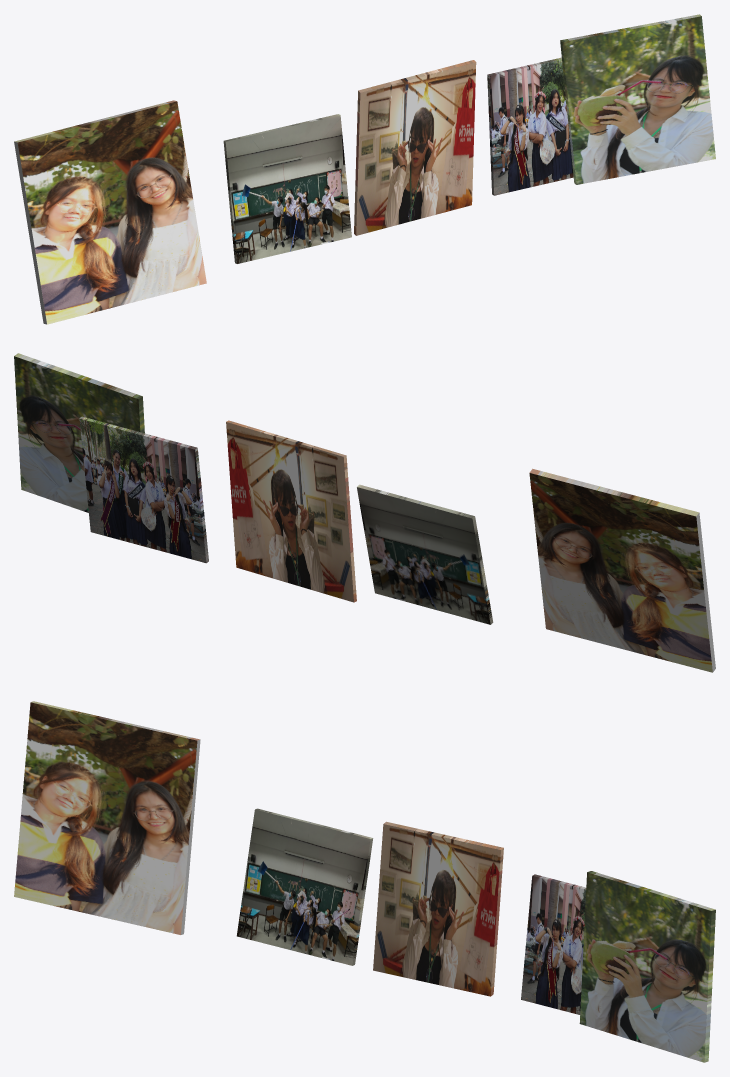
File: art2.glb
3 renders of one model, top to bottom at view 1: azimuth 30°, elevation 25°; view 2: azimuth 150°, elevation 25°; view 3: azimuth 330°, elevation 25°, orthographic. The views are drawn at different scales.
Visible parts, largest first — view 1: Plane.013, Plane.012, Plane.019, Plane.016, Plane.018; view 2: Plane.013, Plane.019, Plane.018, Plane.016, Plane.012; view 3: Plane.013, Plane.012, Plane.019, Plane.016, Plane.018.
Part boxes in pixels (box(x1,y1,x2,y2)): Plane.013: box(14, 100, 206, 324); Plane.012: box(560, 14, 715, 184); Plane.019: box(354, 60, 476, 235); Plane.016: box(223, 114, 351, 263); Plane.018: box(487, 57, 573, 195); Plane.013: box(529, 468, 715, 672); Plane.019: box(226, 420, 356, 602); Plane.018: box(79, 416, 208, 563); Plane.016: box(357, 484, 493, 624); Plane.012: box(14, 353, 144, 512); Plane.013: box(14, 701, 200, 934); Plane.012: box(579, 871, 715, 1062); Plane.019: box(373, 821, 503, 996); Plane.016: box(236, 808, 373, 965); Plane.018: box(521, 874, 586, 1014).
Size of the model in its own units: 1.48 by 0.3647 by 0.1284.
6 materials, 5 textured.
